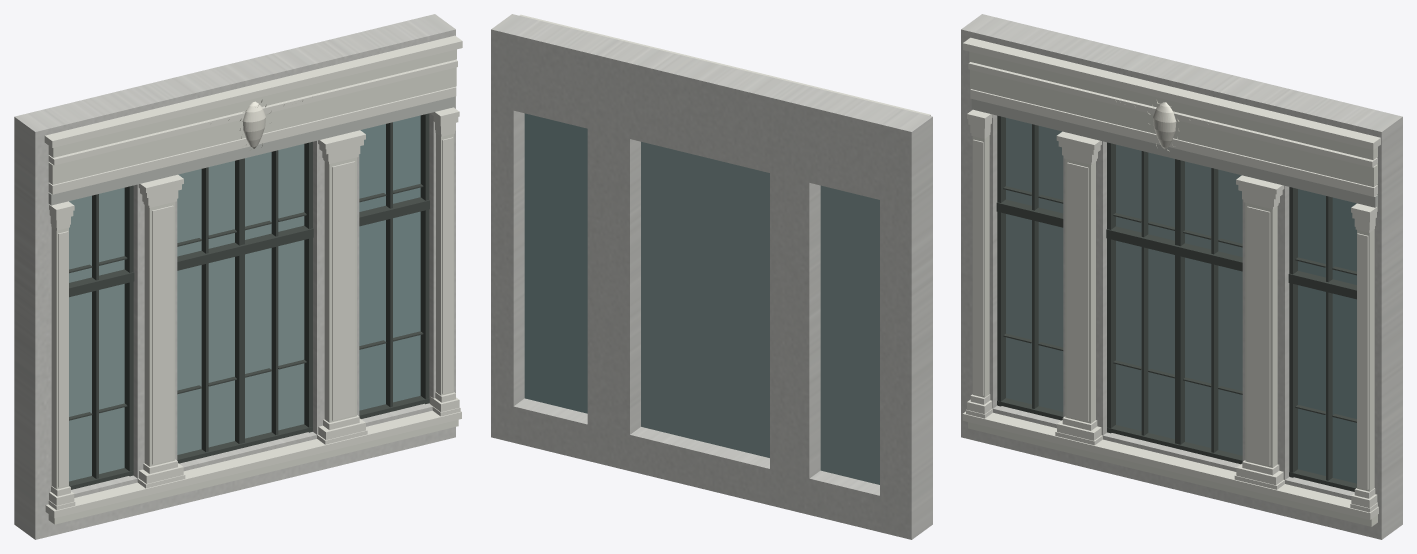
The model's file is mingzhe-window-far.glb.
3 views of the same model, side by side, from view 1: azimuth 30°, elevation 25°; view 2: azimuth 150°, elevation 25°; view 3: azimuth 330°, elevation 25° (orthographic).
Visible parts, largest first — view 1: 明哲楼南面三联长窗与盾形窗饰; view 2: 明哲楼南面三联长窗与盾形窗饰; view 3: 明哲楼南面三联长窗与盾形窗饰.
Part boxes in pixels (bbox=[...]): 明哲楼南面三联长窗与盾形窗饰: bbox=[14, 14, 462, 539]; 明哲楼南面三联长窗与盾形窗饰: bbox=[491, 14, 932, 539]; 明哲楼南面三联长窗与盾形窗饰: bbox=[961, 14, 1402, 539].
Size of the model in its own units: 3.67 by 3.4 by 0.491.
Materials: 10 (1 with a texture image).
